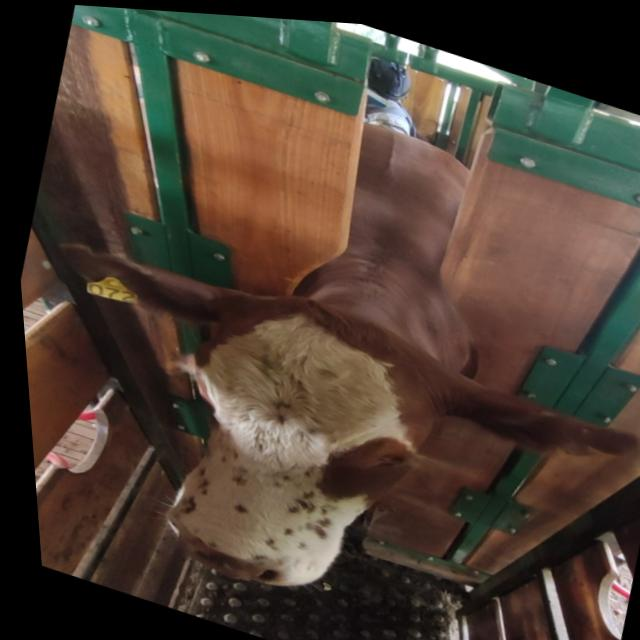cowFace: (126, 261, 458, 626)
